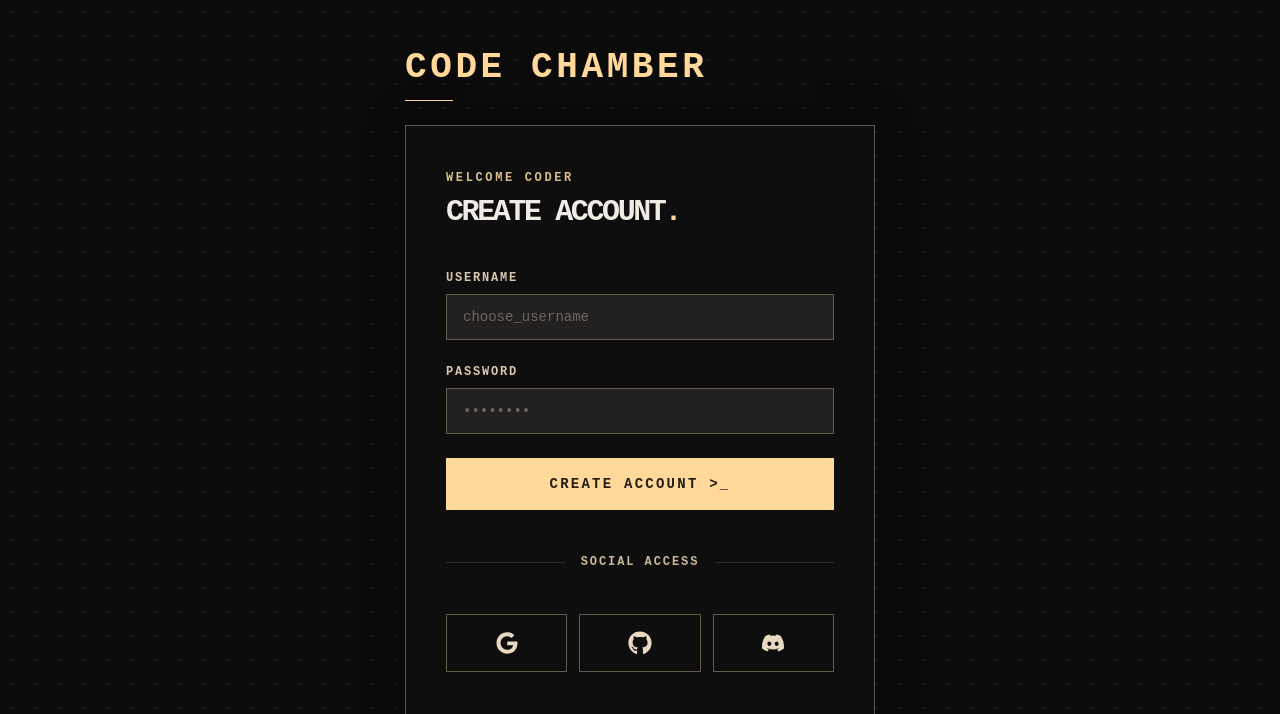
it: Signup - manual submit › shows the creating-account state and disables the submit button while in flight
In the field with placeholder "choose_username": (640, 317) [446,294,834,340], type "alice"
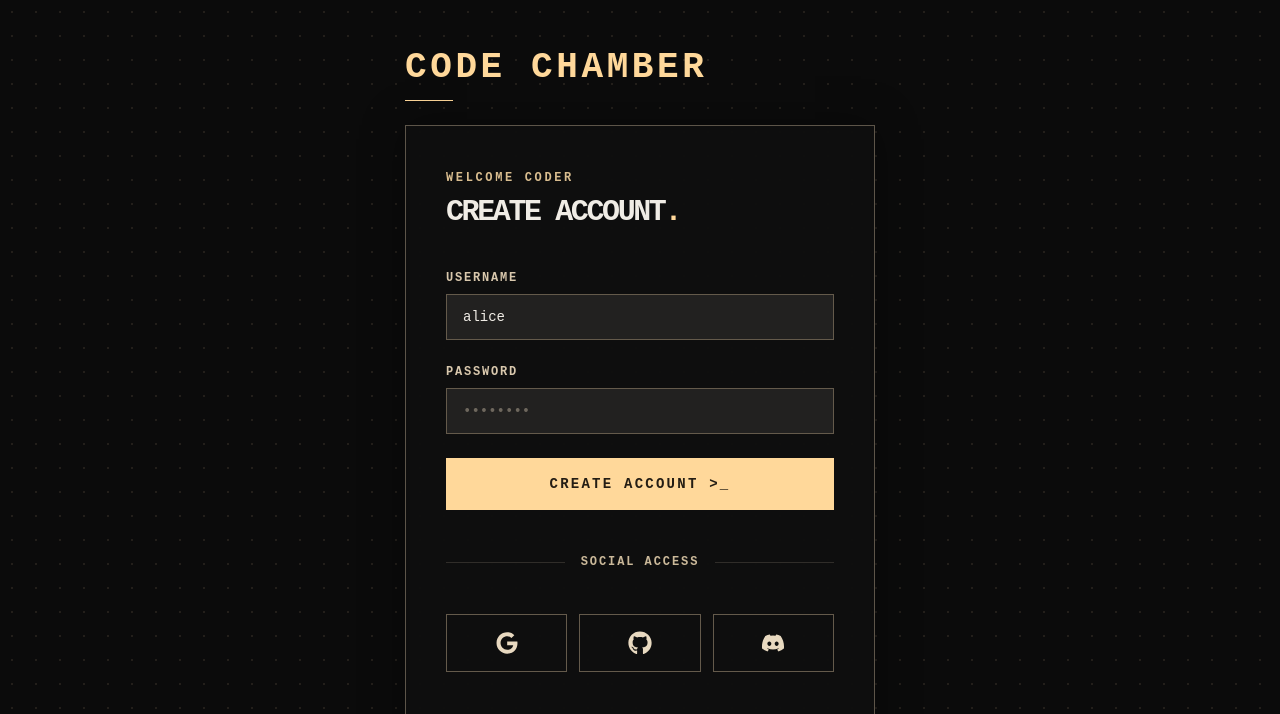
In the password field with placeholder "••••••••": (640, 411) [446,388,834,434], type "hunter2"
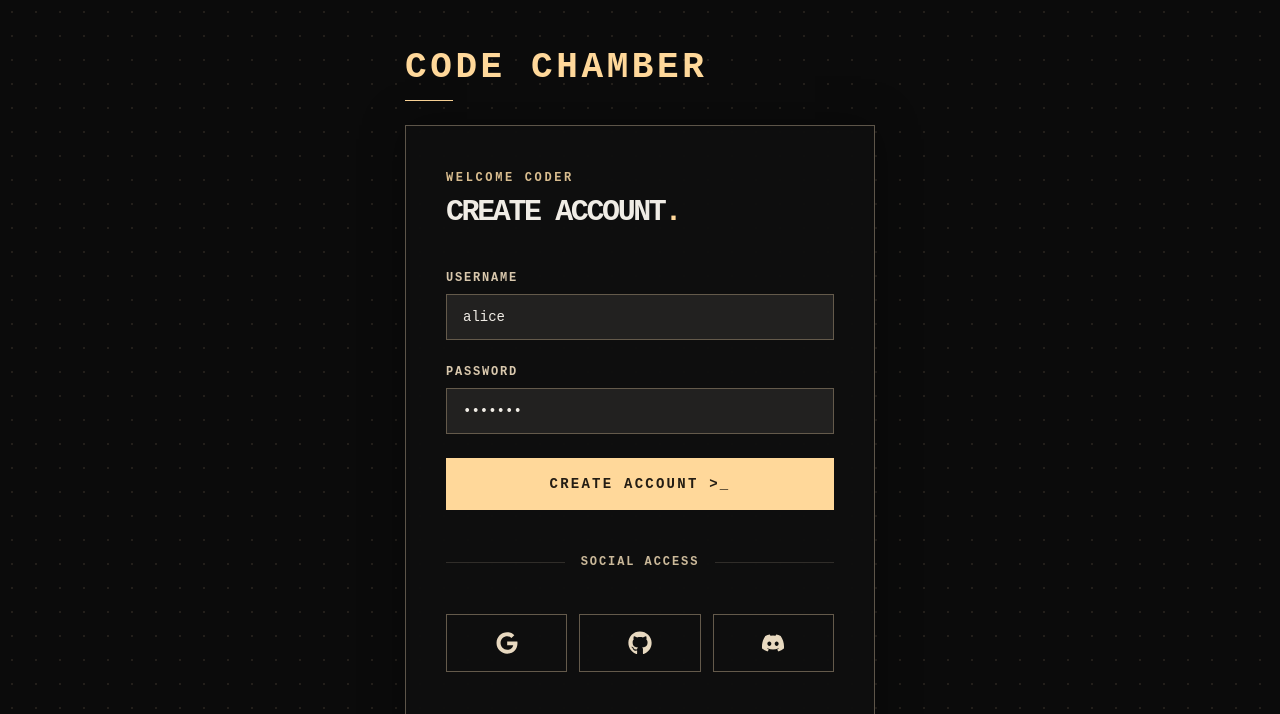
Click the button "CREATE ACCOUNT >_": (640, 484) [446,458,834,510]
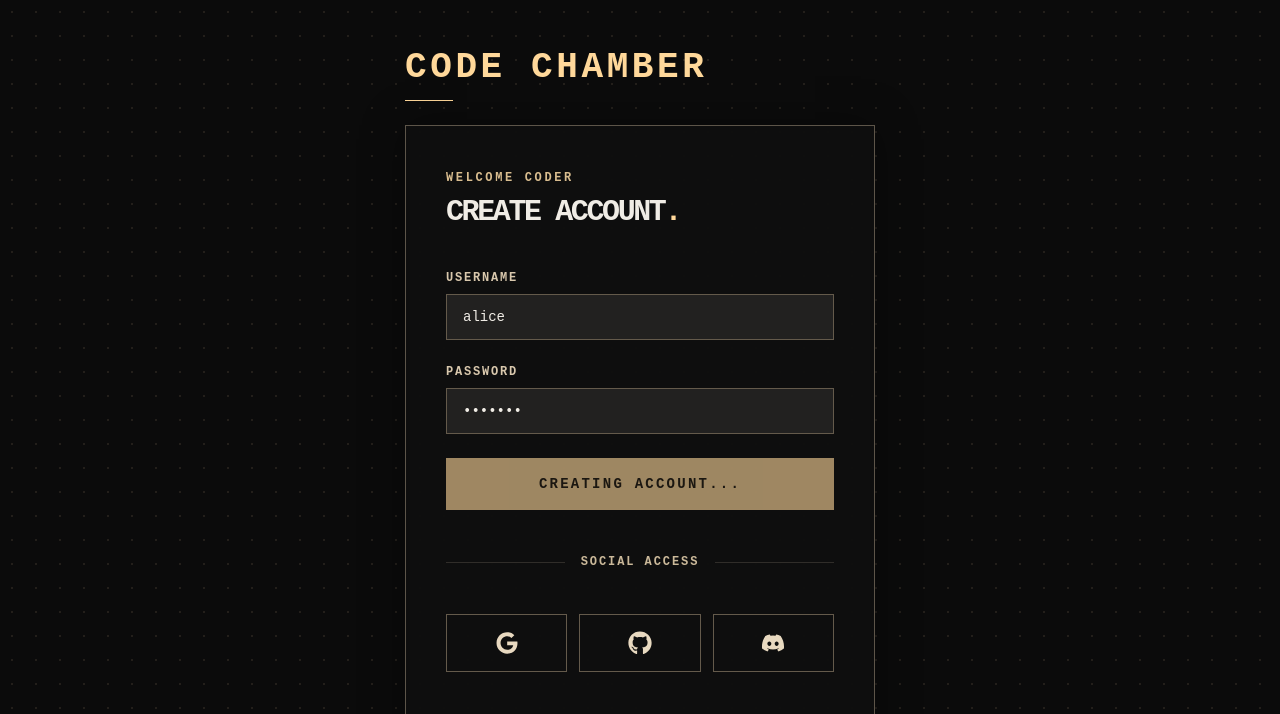
Check: the button "CREATING ACCOUNT..." is disabled, box [446,458,834,510]
